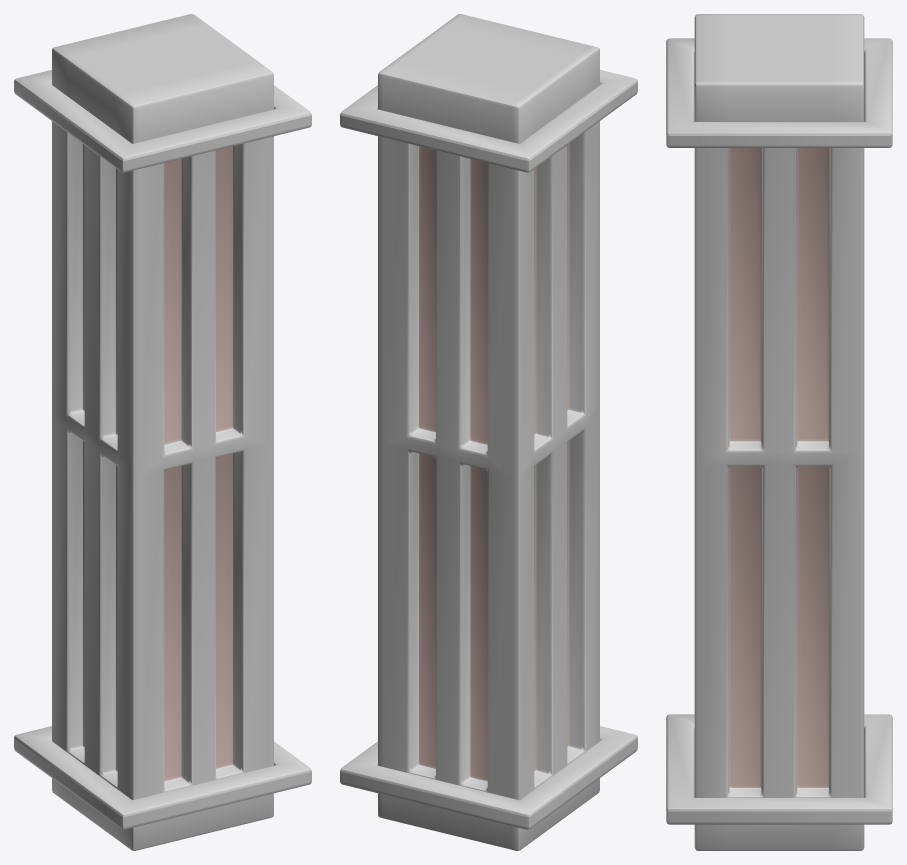
The model's file is EnergyBattery.fbx.
3 renders of one model, left to right at view 1: azimuth 30°, elevation 25°; view 2: azimuth 150°, elevation 25°; view 3: azimuth 270°, elevation 25°, orthographic. The views are drawn at different scales.
Parts seen in each view (by area): view 1: EnergyBattery; view 2: EnergyBattery; view 3: EnergyBattery.
Boxes of the visible parts, box(x1,y1,x2,y2) form: EnergyBattery: box(14, 14, 311, 850); EnergyBattery: box(340, 14, 637, 850); EnergyBattery: box(666, 14, 892, 850).
Size of the model in its own units: 13.36 by 50 by 13.36.
